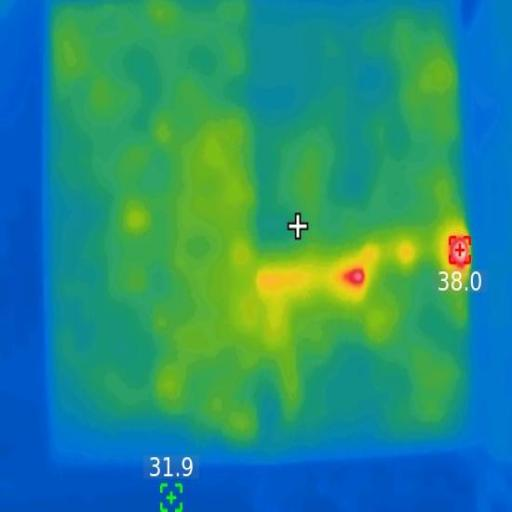hotspot: (448, 232, 474, 269), (342, 266, 368, 290)
